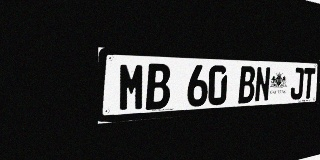0: (208, 65, 228, 106)
6: (187, 65, 209, 107)
B: (146, 63, 171, 110), (238, 66, 256, 103)
J: (290, 67, 304, 100)
M: (118, 63, 146, 112)
N: (254, 66, 271, 102)
T: (302, 68, 315, 99)
